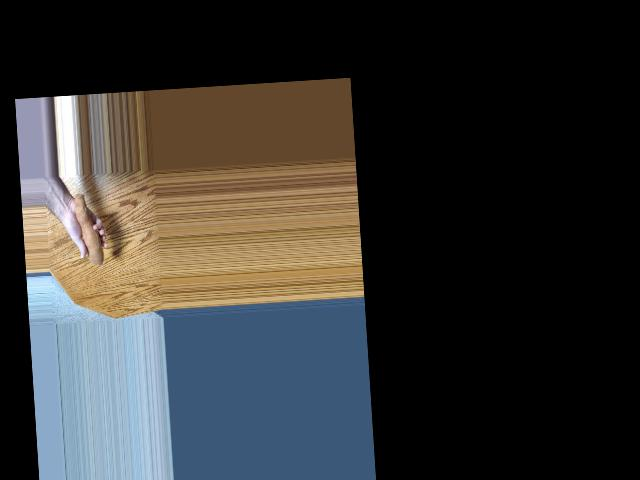sweet_potato: (73, 194, 104, 268)
